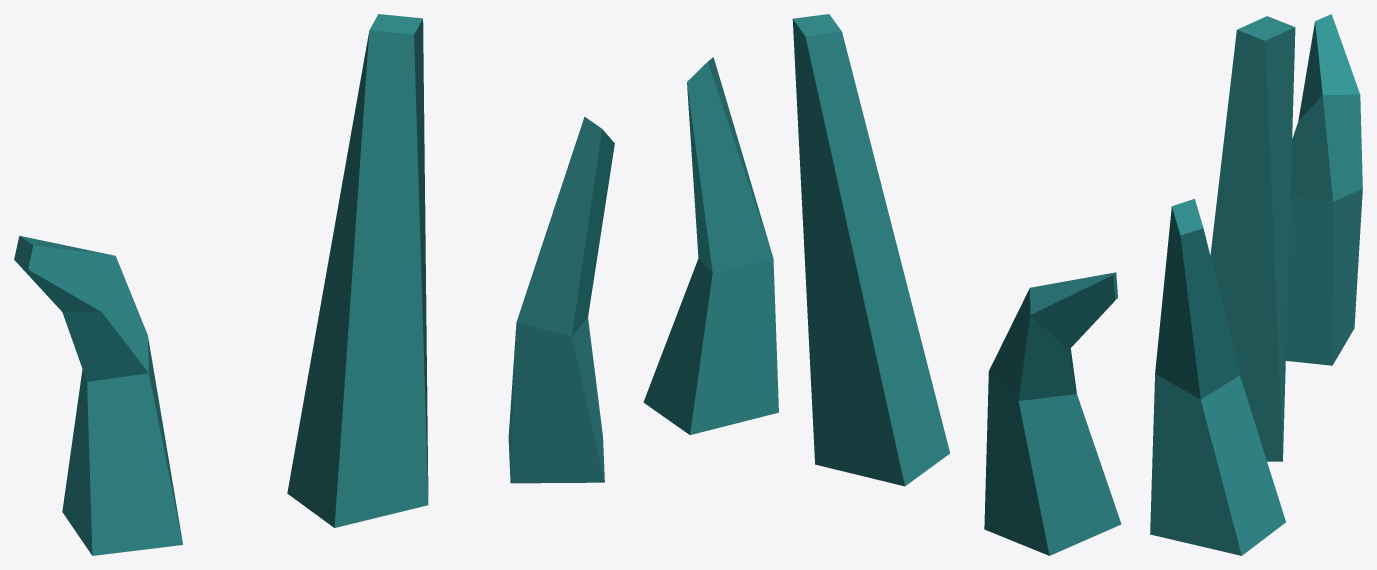
Rendered from GrassWinter1_Alt3.fbx.
The picture shows the model from 3 angles, left to right: view 1: azimuth 30°, elevation 25°; view 2: azimuth 150°, elevation 25°; view 3: azimuth 270°, elevation 25°; orthographic projection. The views are drawn at different scales.
Parts seen in each view (by area): view 1: GrassWinter1_Alt3; view 2: GrassWinter1_Alt3; view 3: GrassWinter1_Alt3.
Boxes of the visible parts, x1=… form: GrassWinter1_Alt3: x1=14, y1=14, x2=614, y2=555; GrassWinter1_Alt3: x1=643, y1=14, x2=1121, y2=555; GrassWinter1_Alt3: x1=1150, y1=14, x2=1362, y2=555.
Size of the model in its own units: 0.327 by 0.2606 by 0.1152.
